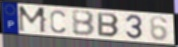3: (124, 14, 143, 40)
6: (149, 15, 169, 42)
B: (70, 10, 96, 38), (97, 11, 121, 38)
C: (49, 9, 68, 34)
M: (17, 5, 48, 34)
